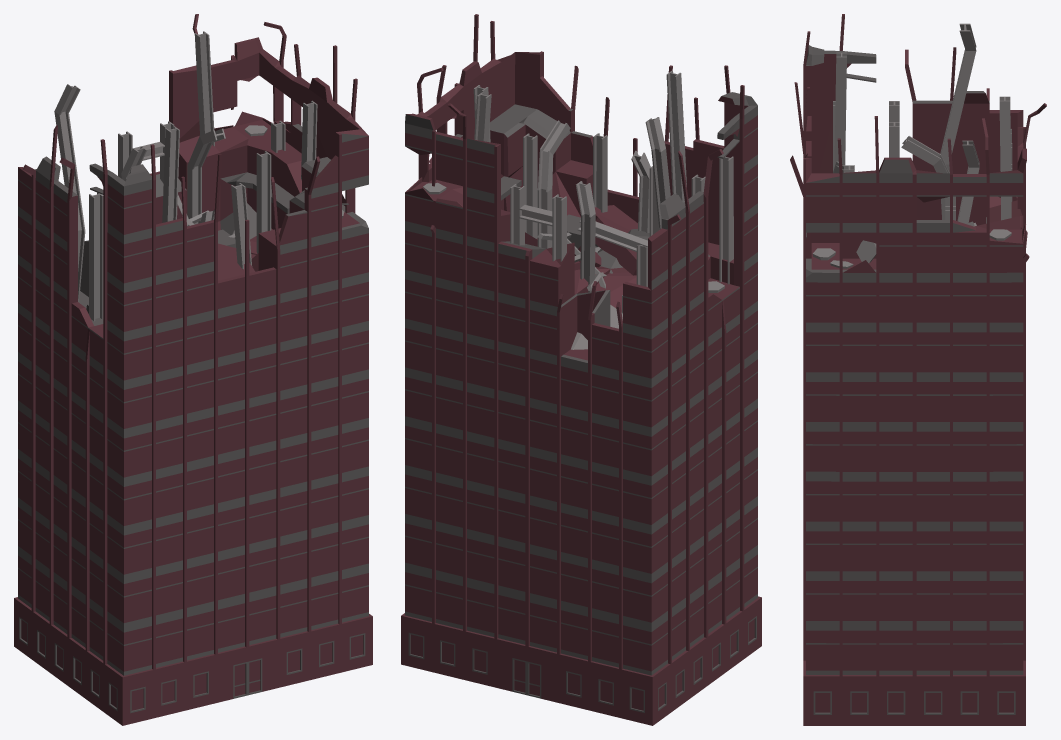
The model's file is building-office-tall-apocalypse-a.fbx.
The picture shows the model from 3 angles, left to right: view 1: azimuth 30°, elevation 25°; view 2: azimuth 150°, elevation 25°; view 3: azimuth 270°, elevation 25°; orthographic projection. The views are drawn at different scales.
Visible parts, largest first — view 1: building-office-tall-apocalypse-a; view 2: building-office-tall-apocalypse-a; view 3: building-office-tall-apocalypse-a.
Boxes of the visible parts, x1,y1,x2,y2 form: building-office-tall-apocalypse-a: (14,14,372,725); building-office-tall-apocalypse-a: (401,14,761,725); building-office-tall-apocalypse-a: (790,14,1046,725).
Bounding box in the file's own units: 20.55 × 44 × 16.84.
